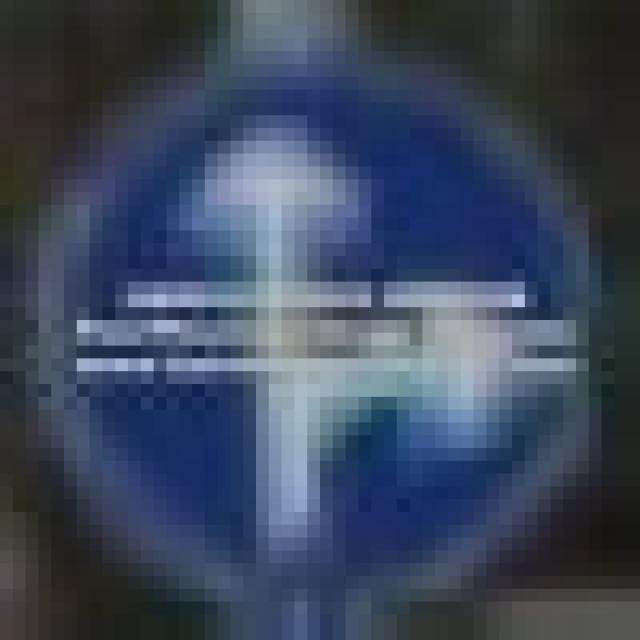compulsory_ahead_or_left: (0, 0, 627, 627)
